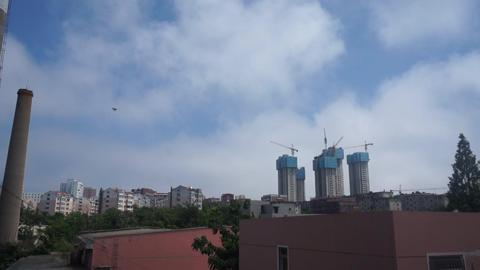UAV: (110, 107, 118, 112)
